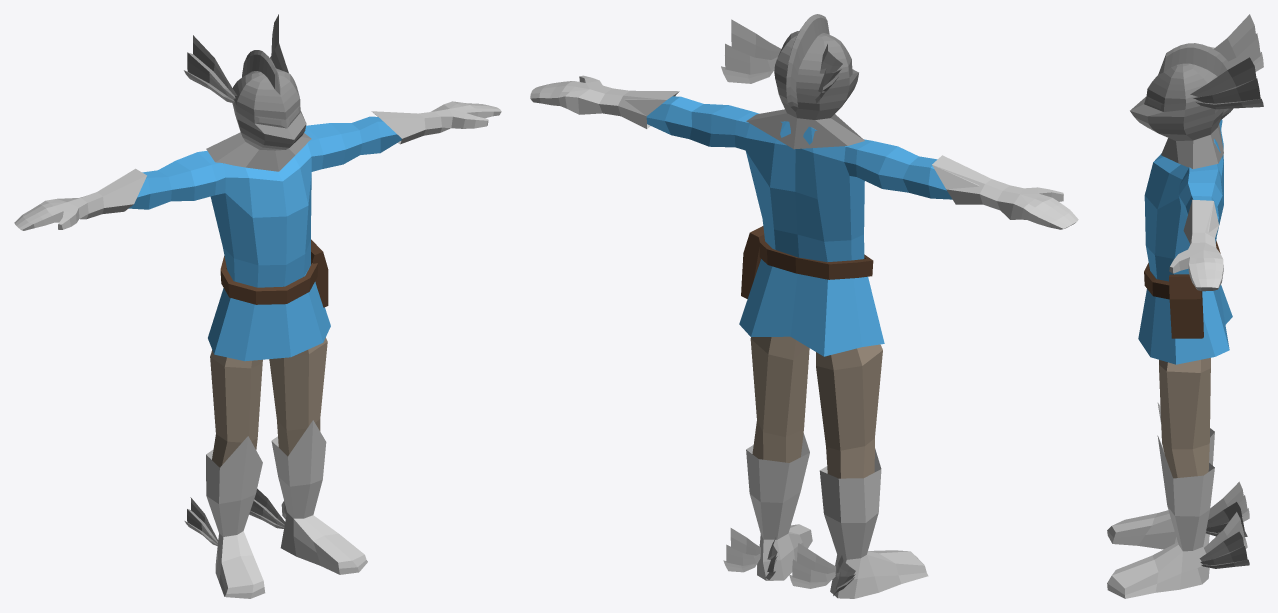
Rendered from BaseModel.fbx.
3 views of the same model, side by side, from view 1: azimuth 30°, elevation 25°; view 2: azimuth 150°, elevation 25°; view 3: azimuth 270°, elevation 25° (orthographic). The views are drawn at different scales.
Parts seen in each view (by area): view 1: Cloth; view 2: Cloth; view 3: Cloth.
Part boxes in pixels (x1,y1,x2,y2): Cloth: [14, 14, 501, 598]; Cloth: [530, 14, 1078, 598]; Cloth: [1107, 14, 1263, 598].
Bounding box in the file's own units: 272 × 1008 × 994.
